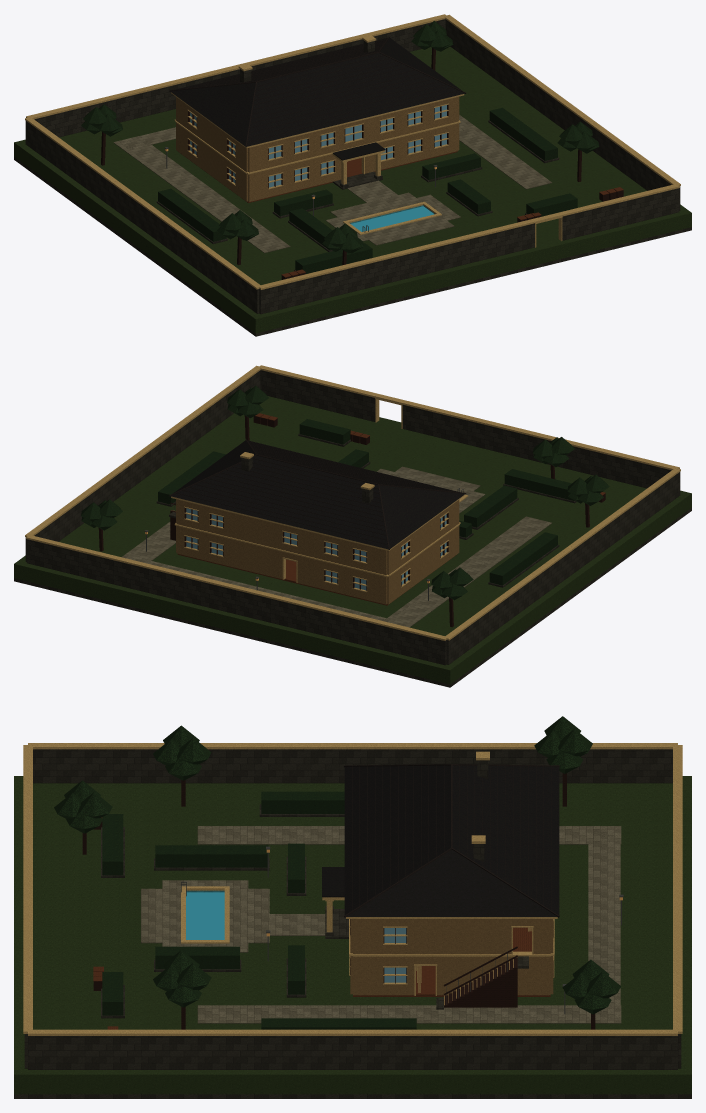
Rendered from linden-estate.glb.
3 views of the same model, one above another, from view 1: azimuth 30°, elevation 25°; view 2: azimuth 150°, elevation 25°; view 3: azimuth 270°, elevation 25° (orthographic). The views are drawn at different scales.
Visible parts, largest first — view 1: Lawn, Estate boundary, Hipped roof, Masonry and window frames, Garden paving, Wall coping, Clipped hedges, Roof courses, Tree crowns, Ground, Planter edges, Pool water (+8 smaller); view 2: Lawn, Estate boundary, Hipped roof, Masonry and window frames, Wall coping, Garden paving, Clipped hedges, Roof courses, Tree crowns, Ground, Planter edges, Hip and ridge caps (+5 smaller); view 3: Lawn, Estate boundary, Hipped roof, Garden paving, Wall coping, Masonry and window frames, Clipped hedges, Tree crowns, Ground, Roof courses, East terrace staircase, Planter edges (+8 smaller).
Part boxes in pixels (x1,y1,x2,y2): Lawn: (14,46,691,333); Estate boundary: (25,19,680,314); Hipped roof: (170,37,464,146); Masonry and window frames: (176,96,459,201); Garden paving: (113,115,552,253); Wall coping: (25,14,680,289); Clipped hedges: (158,107,577,273); Roof courses: (179,38,458,142); Tree crowns: (81,21,599,253); Ground: (14,157,691,336); Planter edges: (156,120,559,271); Pool water: (351,206,433,231); Lawn: (14,396,691,684); Estate boundary: (25,370,680,665); Hipped roof: (170,440,464,549); Masonry and window frames: (176,499,459,604); Wall coping: (25,365,680,640); Garden paving: (121,466,551,627); Clipped hedges: (158,419,574,585); Roof courses: (176,441,456,544); Tree crowns: (81,385,609,600); Ground: (14,508,691,687); Planter edges: (156,433,576,587); Hip and ridge caps: (169,439,466,549); Lawn: (14,776,691,1094); Estate boundary: (24,749,681,1069); Hipped roof: (344,765,559,916); Garden paving: (141,826,621,1023); Wall coping: (23,743,682,1035); Masonry and window frames: (349,919,554,995); Clipped hedges: (102,791,416,1029); Tree crowns: (54,716,620,1014); Ground: (14,1094,691,1098); Roof courses: (352,765,551,910); East terrace staircase: (443,946,517,1007); Planter edges: (101,804,344,1018).
Bounding box in the file's own units: 50 × 11.97 × 48.
Materials: 20 (16 with a texture image).
